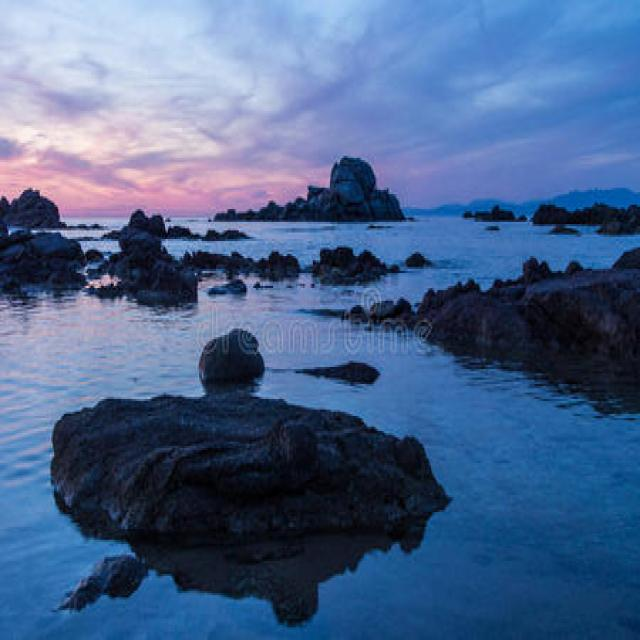reef: (107, 206, 413, 307)
